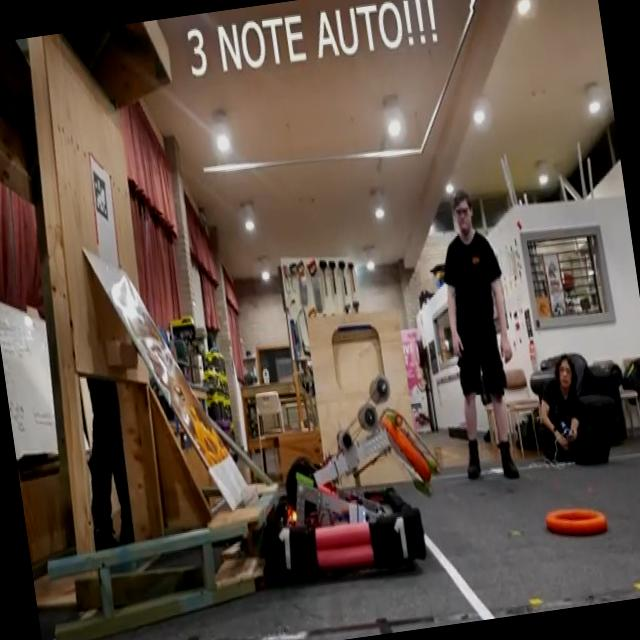note: (540, 491, 614, 545)
